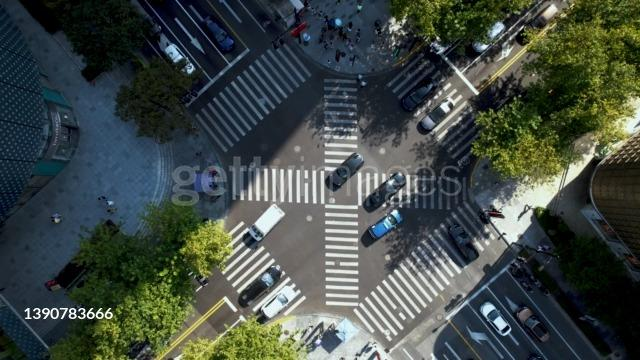car: (194, 13, 242, 55), (513, 298, 555, 344), (242, 260, 288, 302), (322, 152, 366, 194), (122, 0, 170, 38), (243, 203, 287, 243), (476, 294, 516, 338), (515, 5, 559, 43), (362, 205, 408, 241), (162, 46, 208, 82), (363, 172, 407, 207), (446, 222, 482, 264), (261, 285, 303, 321), (468, 20, 514, 52), (396, 80, 439, 114), (418, 98, 460, 132), (424, 29, 468, 59)
